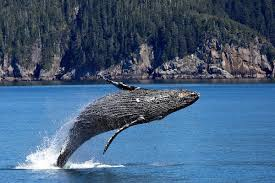humpback: (58, 88, 200, 164)
